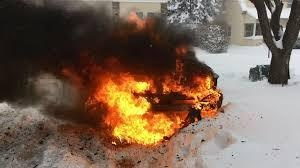fire: (88, 45, 226, 148)
